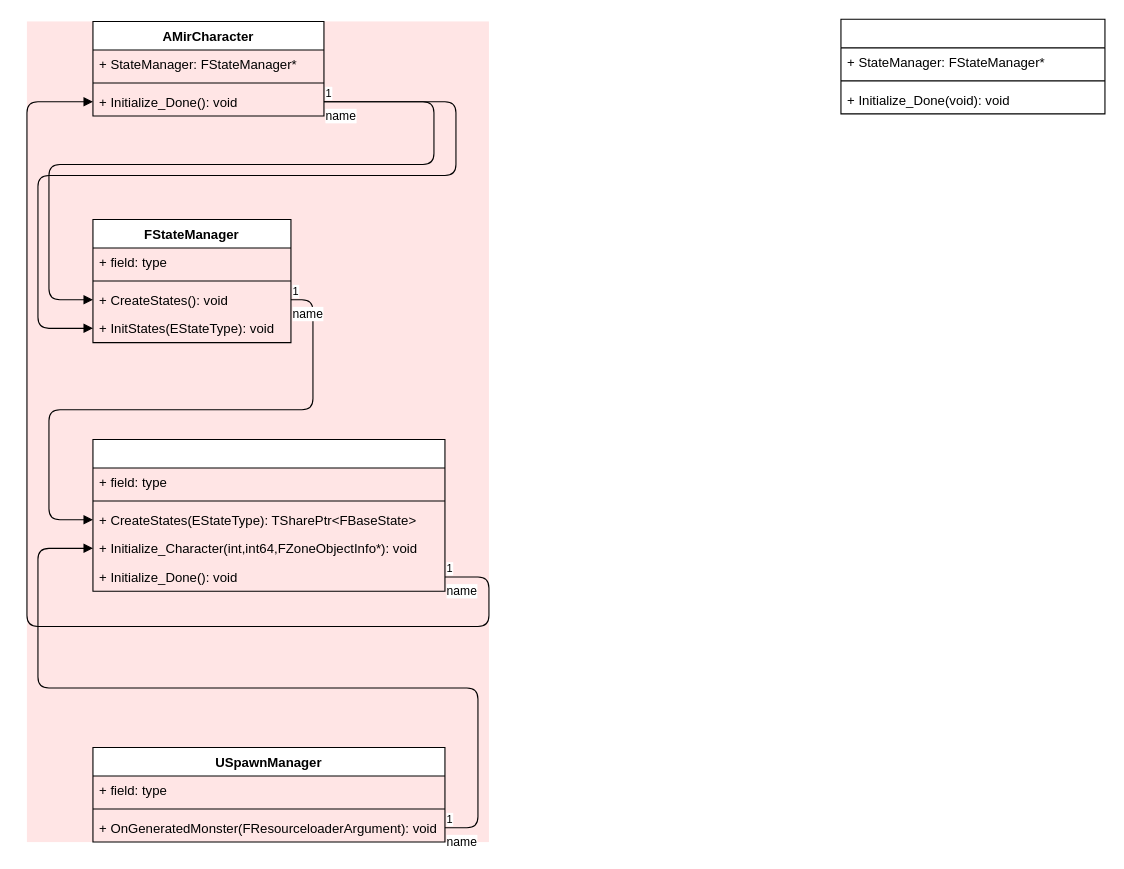
This 1124x869 diagram has some shape labels left out. The box of each missing label's shape, as (x1, y1, x2, y2) in pixels:
AMirMonster: (92, 438, 445, 591)
Character: (840, 18, 1105, 114)
